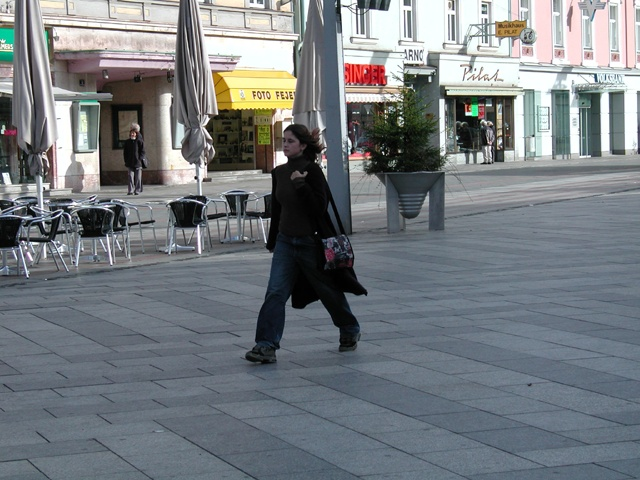person: (248, 125, 361, 363)
